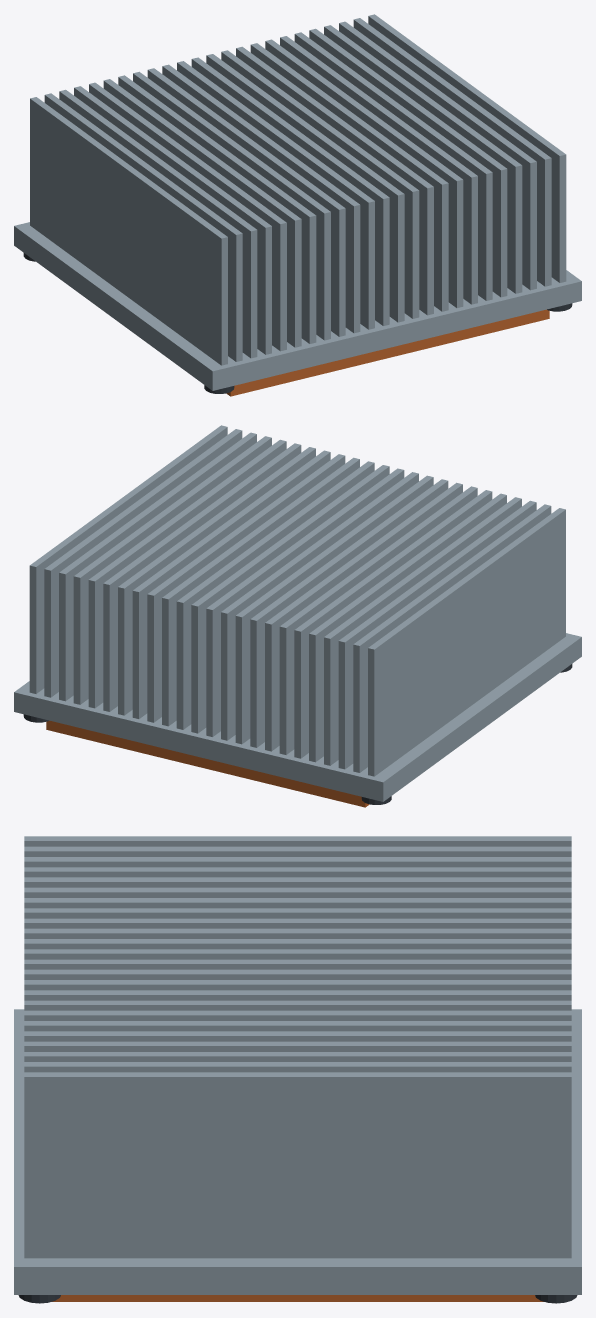
The model's file is 133_L110_CPU_RemovableHeatsink.fbx.
3 views of the same model, one above another, from view 1: azimuth 30°, elevation 25°; view 2: azimuth 150°, elevation 25°; view 3: azimuth 270°, elevation 25° (orthographic). The views are drawn at different scales.
Visible parts, largest first — view 1: L110_CPU_RemovableHeatsink_ALUMINUM, L110_CPU_RemovableHeatsink_COPPER; view 2: L110_CPU_RemovableHeatsink_ALUMINUM, L110_CPU_RemovableHeatsink_COPPER; view 3: L110_CPU_RemovableHeatsink_ALUMINUM, L110_CPU_RemovableHeatsink_COPPER.
Part boxes in pixels (x1,y1,x2,y2): L110_CPU_RemovableHeatsink_ALUMINUM: (14,14,581,390); L110_CPU_RemovableHeatsink_COPPER: (226,309,549,396); L110_CPU_RemovableHeatsink_ALUMINUM: (14,425,581,801); L110_CPU_RemovableHeatsink_COPPER: (46,720,369,807); L110_CPU_RemovableHeatsink_ALUMINUM: (14,836,581,1294); L110_CPU_RemovableHeatsink_COPPER: (52,1295,543,1301).
Bounding box in the file's own units: 59 × 55 × 25.
